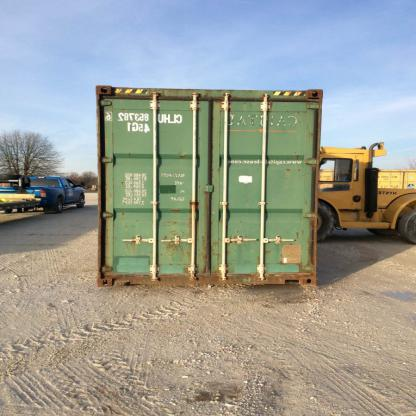Damage: (158, 226, 192, 273), (214, 108, 224, 198), (109, 88, 183, 100), (279, 243, 306, 273), (227, 230, 257, 254), (196, 91, 236, 107), (104, 223, 118, 265), (196, 233, 208, 277), (104, 175, 118, 210), (212, 232, 221, 278), (293, 101, 319, 116), (257, 94, 277, 112), (307, 236, 317, 271), (126, 234, 140, 256), (174, 149, 192, 163), (298, 164, 312, 178), (280, 167, 295, 180), (304, 123, 316, 139), (146, 244, 154, 264), (291, 151, 306, 161), (162, 219, 180, 225), (240, 98, 253, 106), (295, 229, 305, 238), (121, 210, 129, 219), (264, 247, 274, 254), (126, 150, 134, 158), (256, 255, 261, 266), (303, 198, 309, 206), (121, 178, 127, 186), (237, 219, 245, 224), (245, 198, 250, 204), (136, 218, 141, 222), (125, 225, 130, 229)
